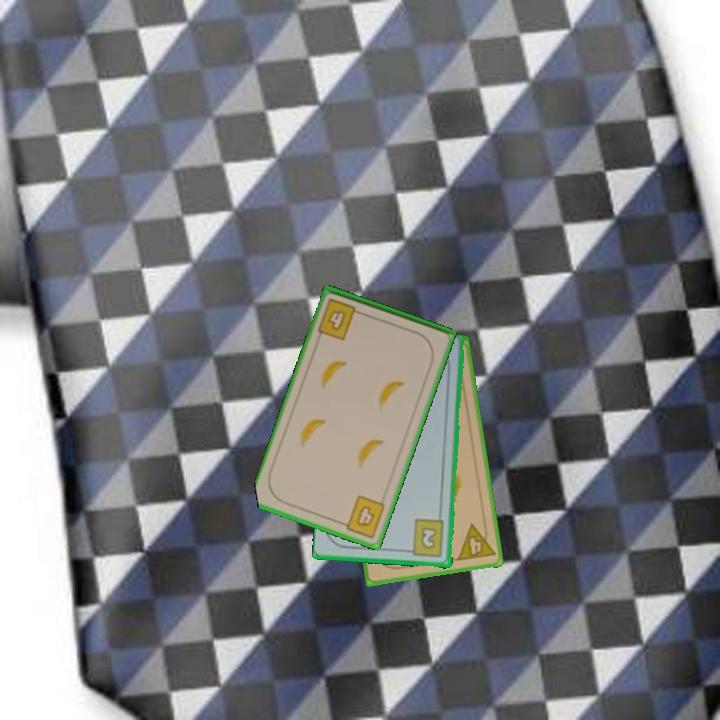2b: (403, 516, 447, 560)
4b: (336, 492, 388, 541), (314, 295, 367, 343)
4p: (453, 519, 498, 564)
